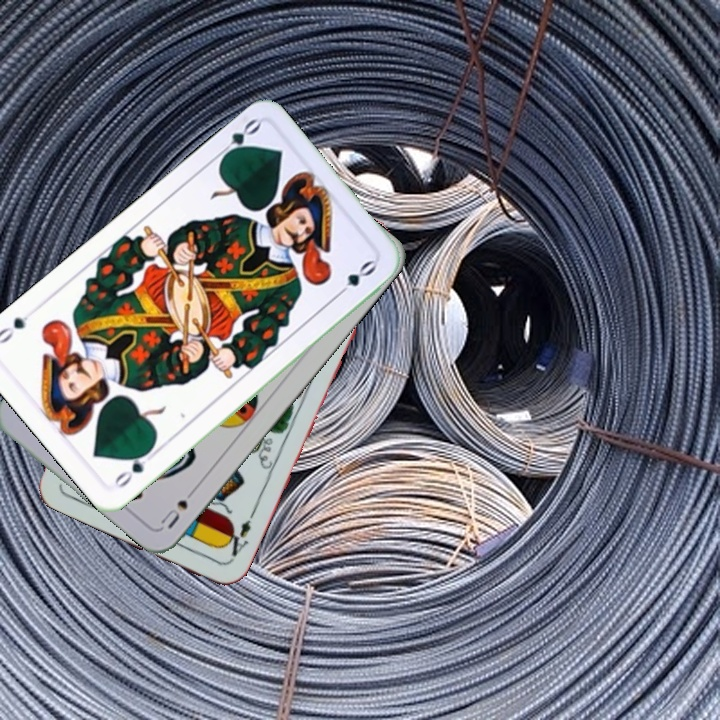EA: (220, 507, 258, 564)
GO: (212, 114, 263, 164), (109, 444, 159, 491)
SU: (156, 481, 200, 532)
